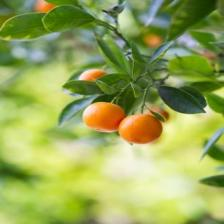orange: (84, 102, 125, 132), (120, 116, 162, 144), (79, 70, 107, 81)
